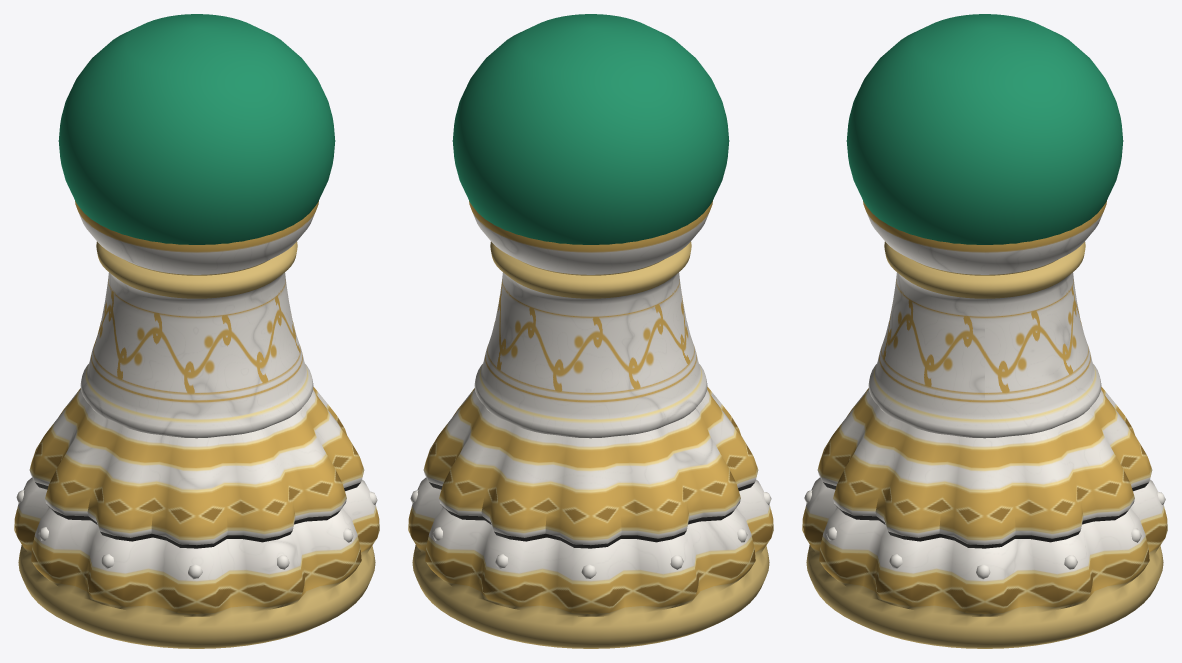
File: PieceModel.fbx
The picture shows the model from 3 angles, left to right: view 1: azimuth 30°, elevation 25°; view 2: azimuth 150°, elevation 25°; view 3: azimuth 270°, elevation 25°; orthographic projection.
Visible parts, largest first — view 1: Piece; view 2: Piece; view 3: Piece.
Part boxes in pixels (box(x1,y1,x2,y2)): Piece: box(14, 14, 379, 648); Piece: box(408, 14, 773, 648); Piece: box(802, 14, 1167, 648).
Bounding box in the file's own units: 0.2288 × 0.381 × 0.2288.
Materials: 4 (1 with a texture image).
